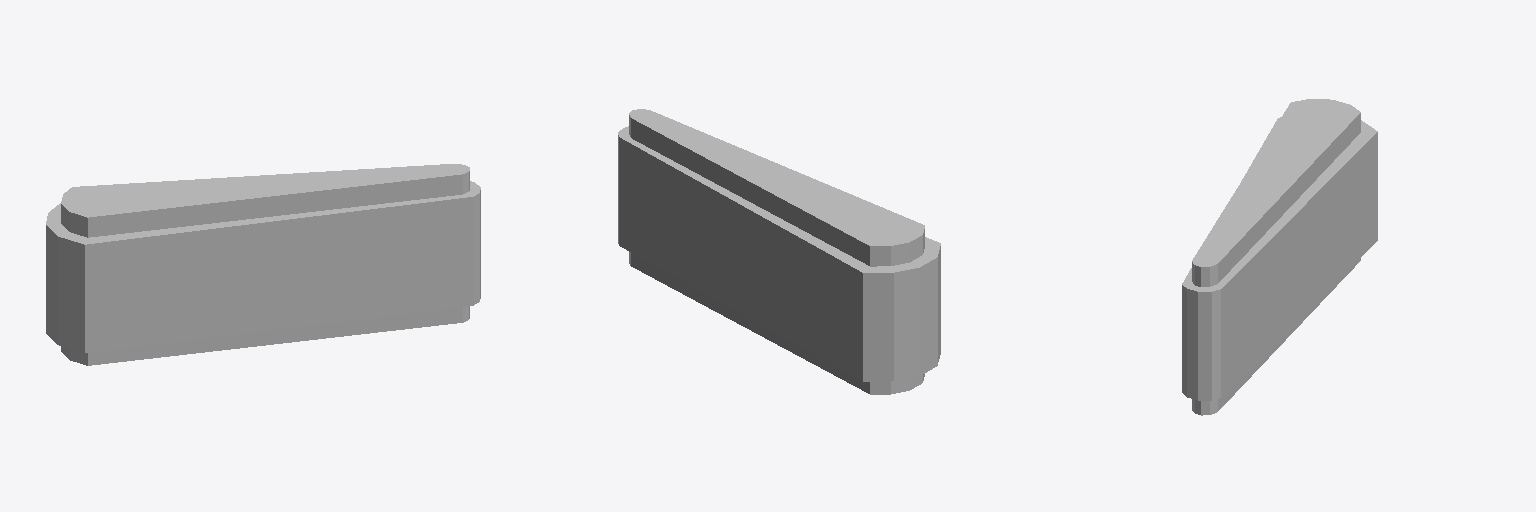
Rendered from Pinball_Flipper.obj.
The picture shows the model from 3 angles: view 1: azimuth 30°, elevation 25°; view 2: azimuth 150°, elevation 25°; view 3: azimuth 270°, elevation 25°; orthographic projection.
Visible parts, largest first — view 1: Flipper; view 2: Flipper; view 3: Flipper.
Part boxes in pixels (bbox=[...]): Flipper: bbox=[46, 164, 480, 365]; Flipper: bbox=[618, 109, 940, 394]; Flipper: bbox=[1182, 99, 1377, 415].
Size of the model in its own units: 1.02 by 0.395 by 0.4731.